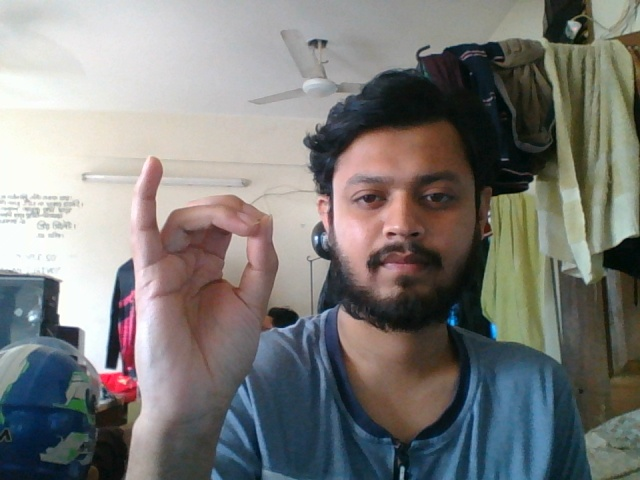ou: (126, 152, 286, 450)
